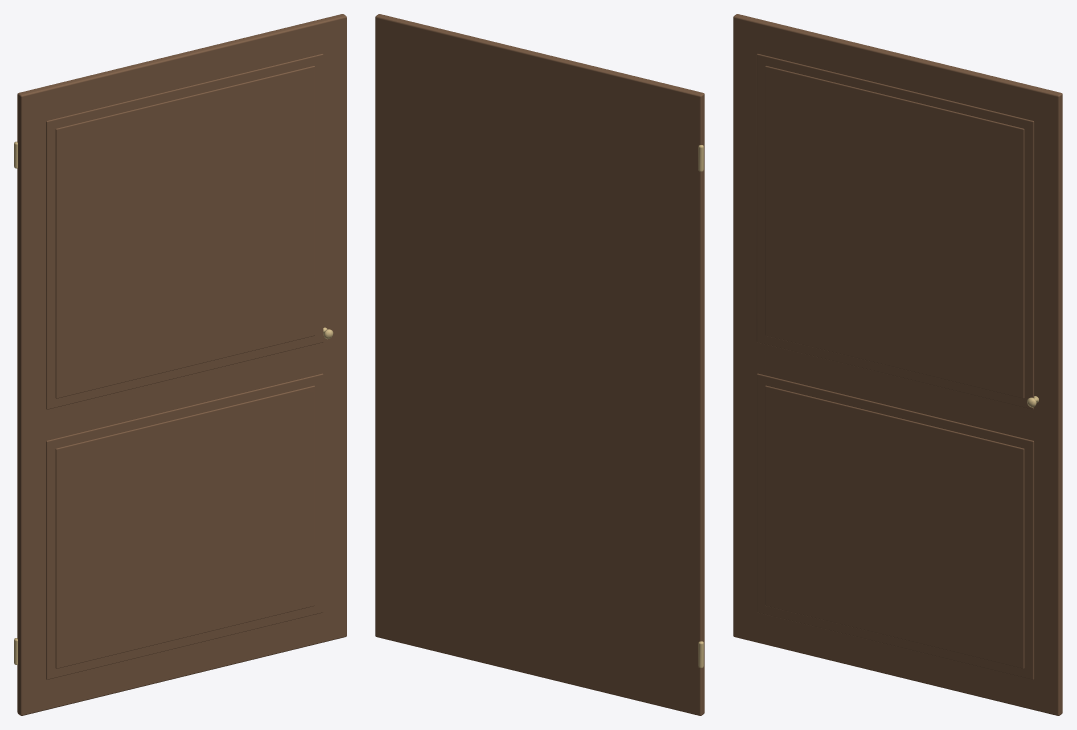
The model's file is lp_cabinet_door_110.glb.
3 views of the same model, side by side, from view 1: azimuth 30°, elevation 25°; view 2: azimuth 150°, elevation 25°; view 3: azimuth 330°, elevation 25° (orthographic).
Parts seen in each view (by area): view 1: lp_cabinet_door_110; view 2: lp_cabinet_door_110; view 3: lp_cabinet_door_110.
Part boxes in pixels (<box>): lp_cabinet_door_110: <box>14,14,346,715</box>; lp_cabinet_door_110: <box>375,14,704,715</box>; lp_cabinet_door_110: <box>733,14,1062,715</box>.
Size of the model in its own units: 1.1 by 1.99 by 0.067.
